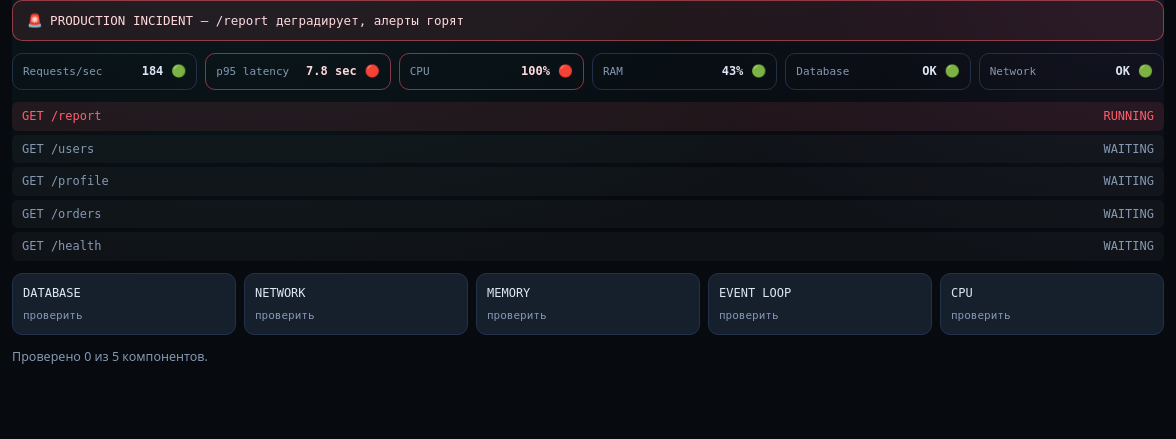
Test: финальный босс: расследование инцидента › полное расследование закрывает задание и подводит итог
Click the button "DATABASE проверить". click: (124, 304)
box: left=12, top=273, right=236, bottom=334
Wait 600 ms
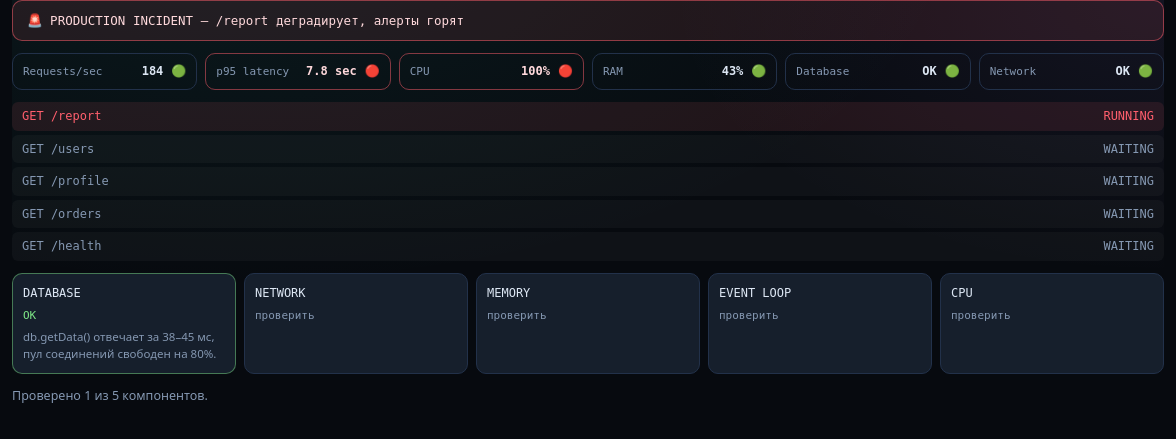
Click the button "NETWORK проверить". click: (356, 324)
box: left=244, top=273, right=468, bottom=374
Wait 600 ms
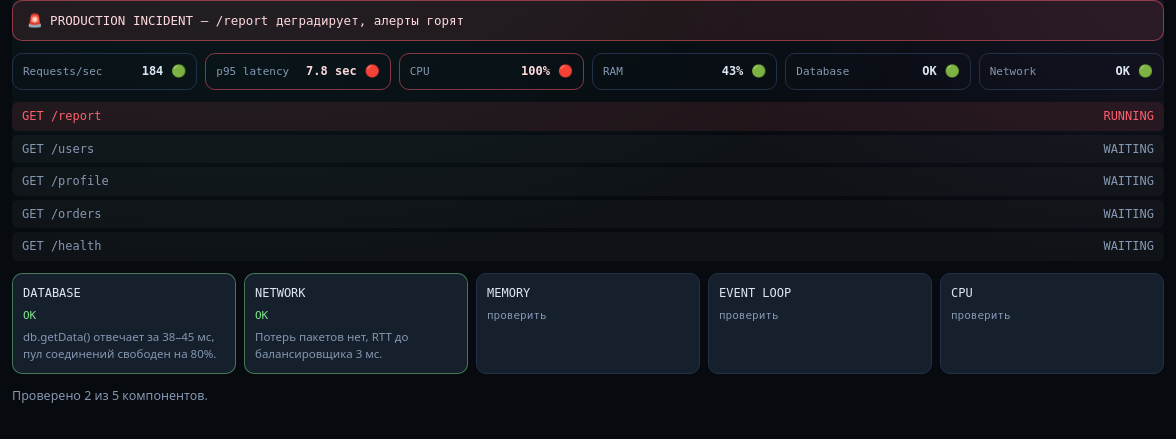
Click the button "MEMORY проверить". click: (588, 324)
box: left=476, top=273, right=700, bottom=374
Wait 600 ms
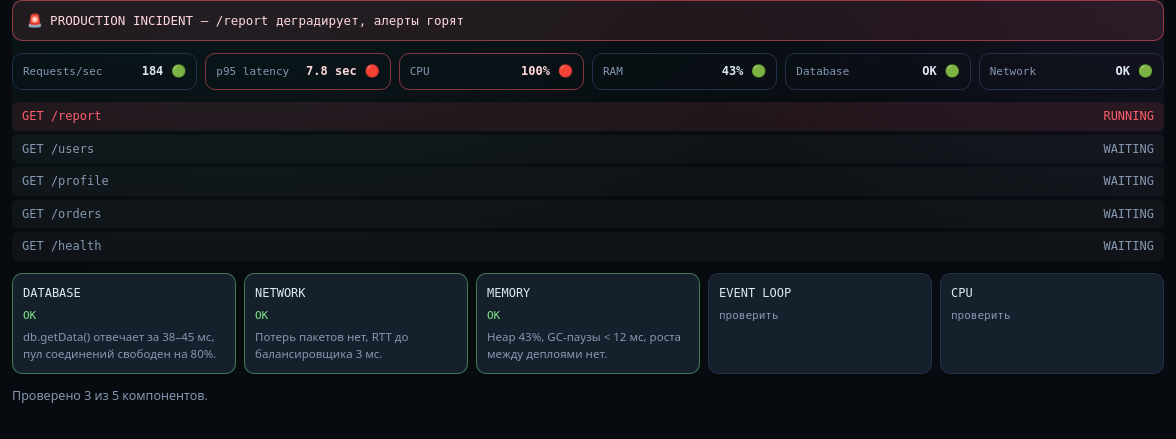
Click the button "EVENT LOOP проверить". click: (820, 324)
box: left=708, top=273, right=932, bottom=374
Wait 600 ms
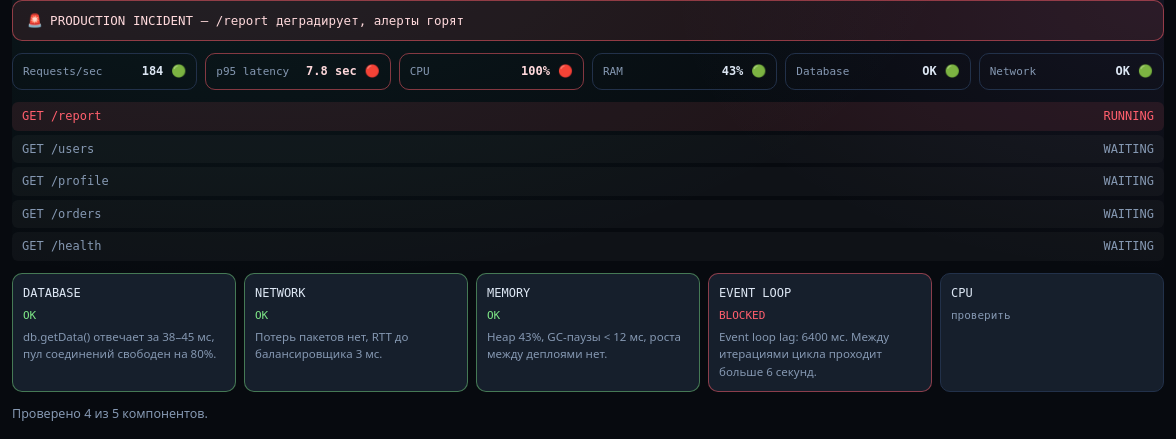
Click the button "CPU проверить". click: (1052, 332)
box: left=940, top=273, right=1164, bottom=392
Wait 600 ms
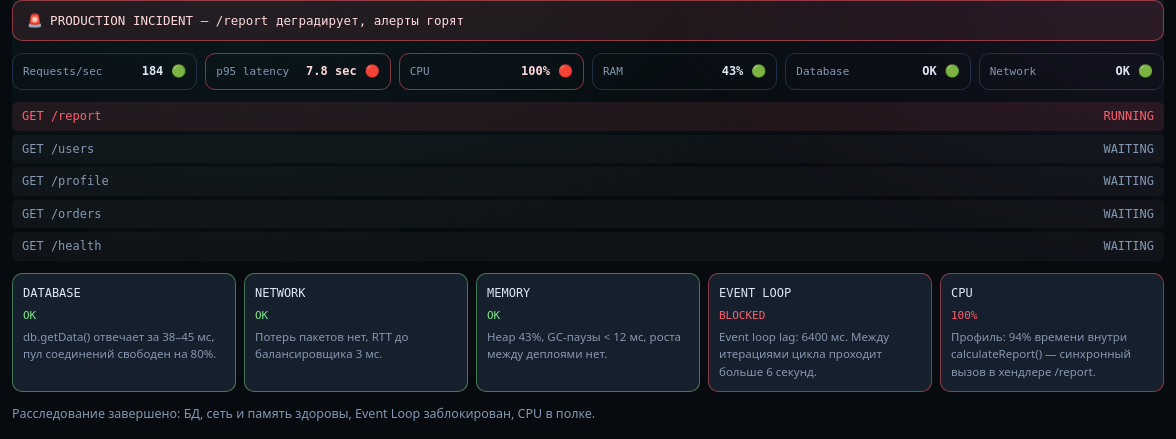
Expected: the text "БД, сеть и память здоровы, Event Loop заблокирован, CPU в полке" is shown, left=12, top=405, right=595, bottom=422
Expected: the button "проверить" is gone
